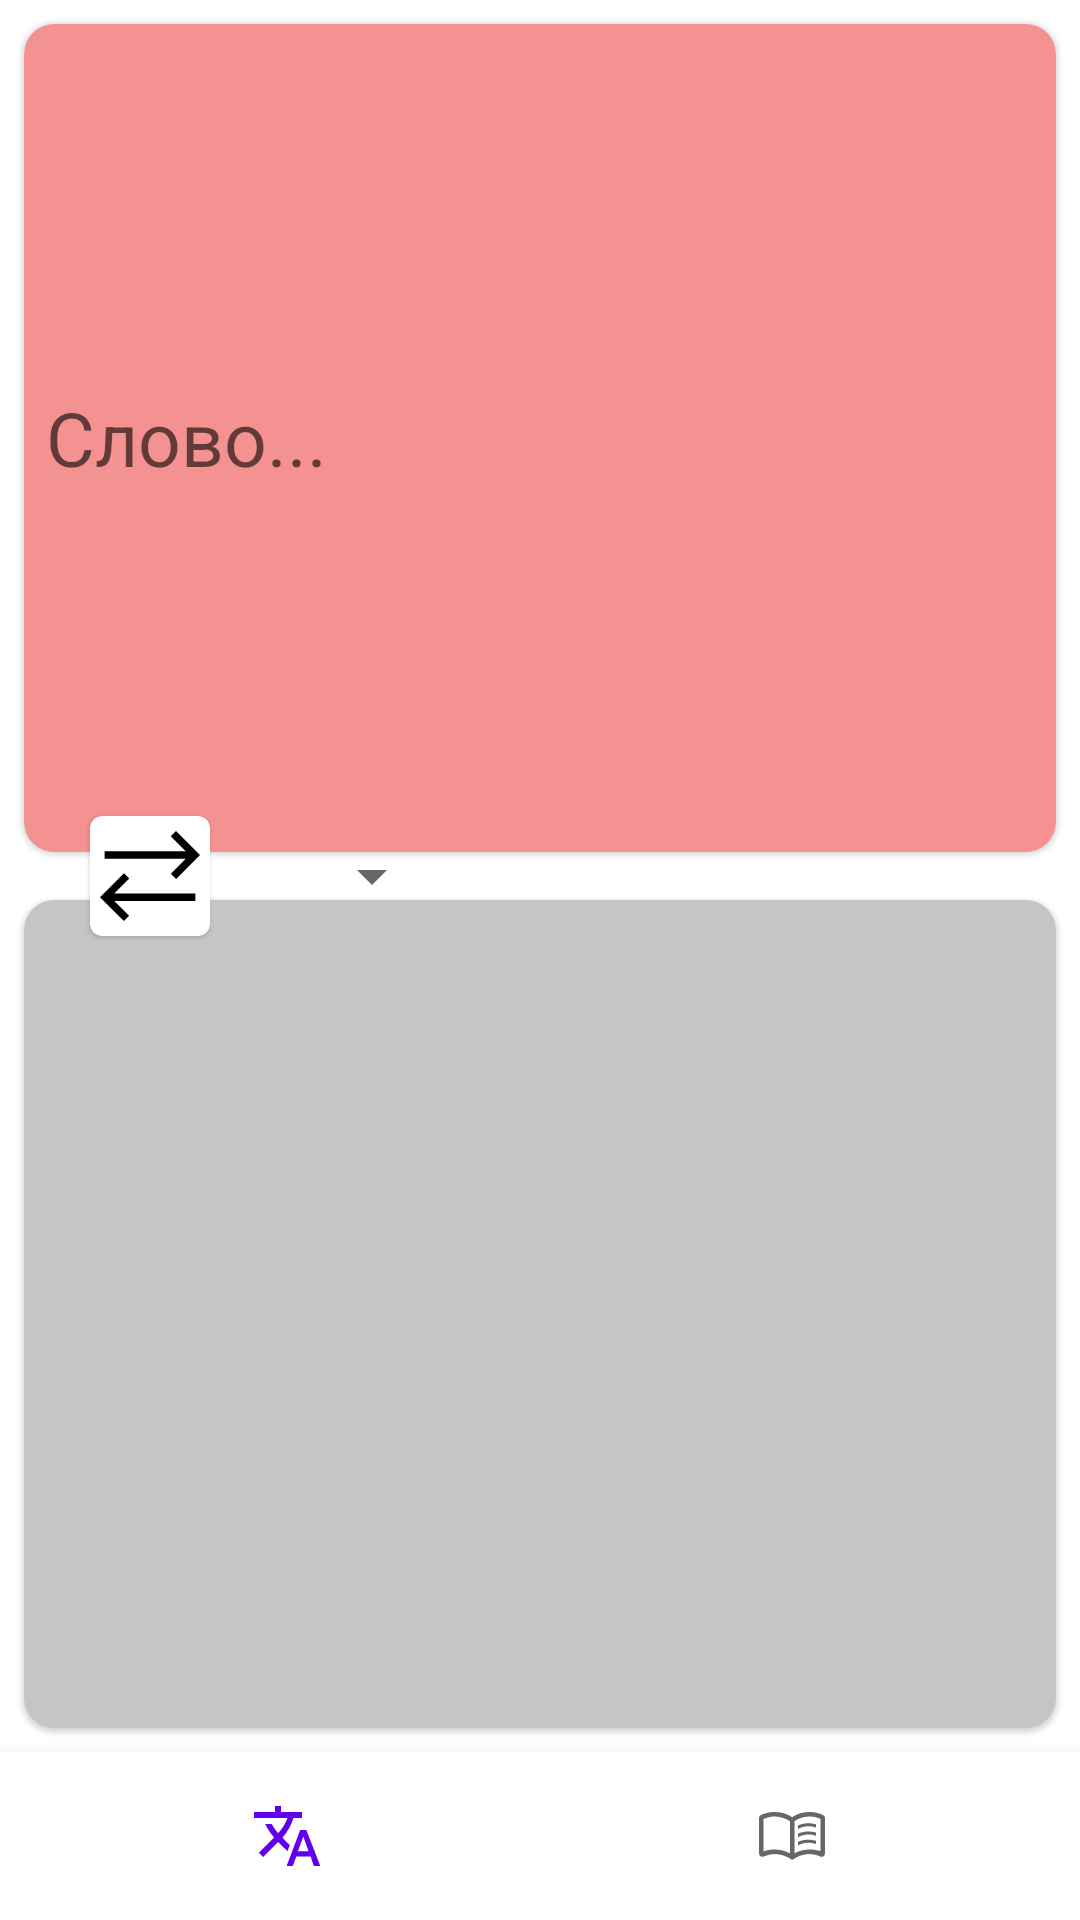

Point at icon controls on the screen. Image size 1080px×1920px, points as (x=x, y=y).
sync: (x=150, y=876)
